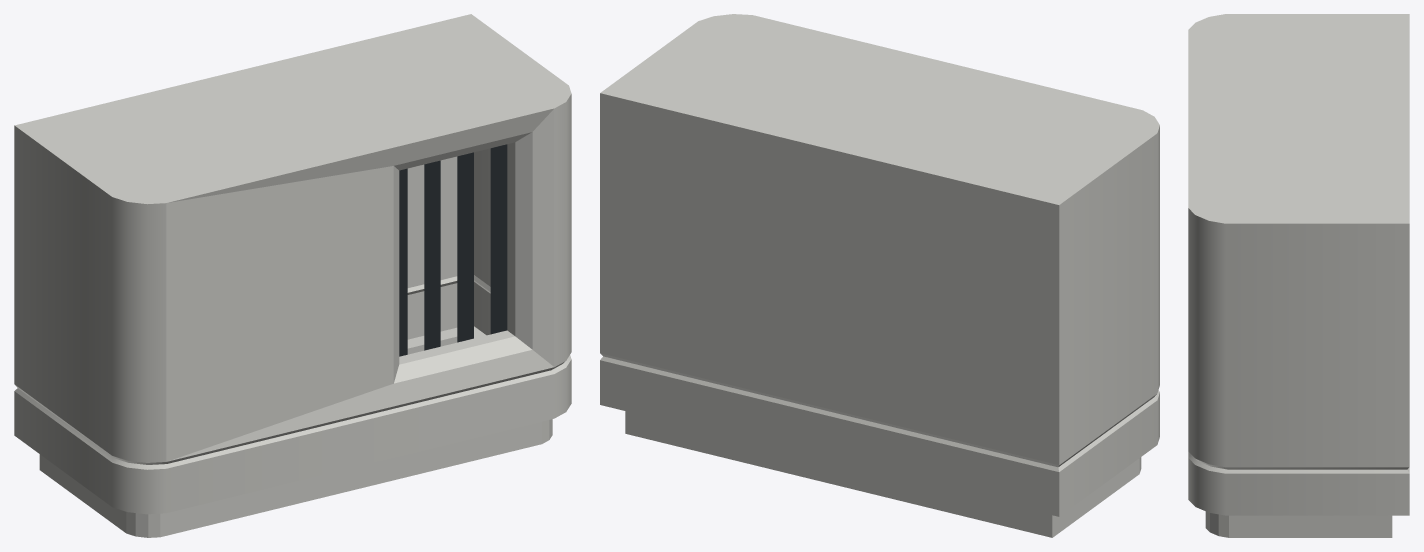
Rendered from SM_ventillation_control.fbx.
3 renders of one model, left to right at view 1: azimuth 30°, elevation 25°; view 2: azimuth 150°, elevation 25°; view 3: azimuth 270°, elevation 25°, orthographic. The views are drawn at different scales.
Parts seen in each view (by area): view 1: ventillation_control; view 2: ventillation_control; view 3: ventillation_control.
Part boxes in pixels (x1,y1,x2,y2): ventillation_control: (14, 14, 571, 537); ventillation_control: (600, 14, 1159, 537); ventillation_control: (1188, 14, 1409, 537).
Size of the model in its own units: 120 by 85.97 by 53.61.
